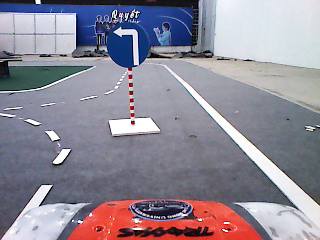turn: (106, 20, 152, 70)
